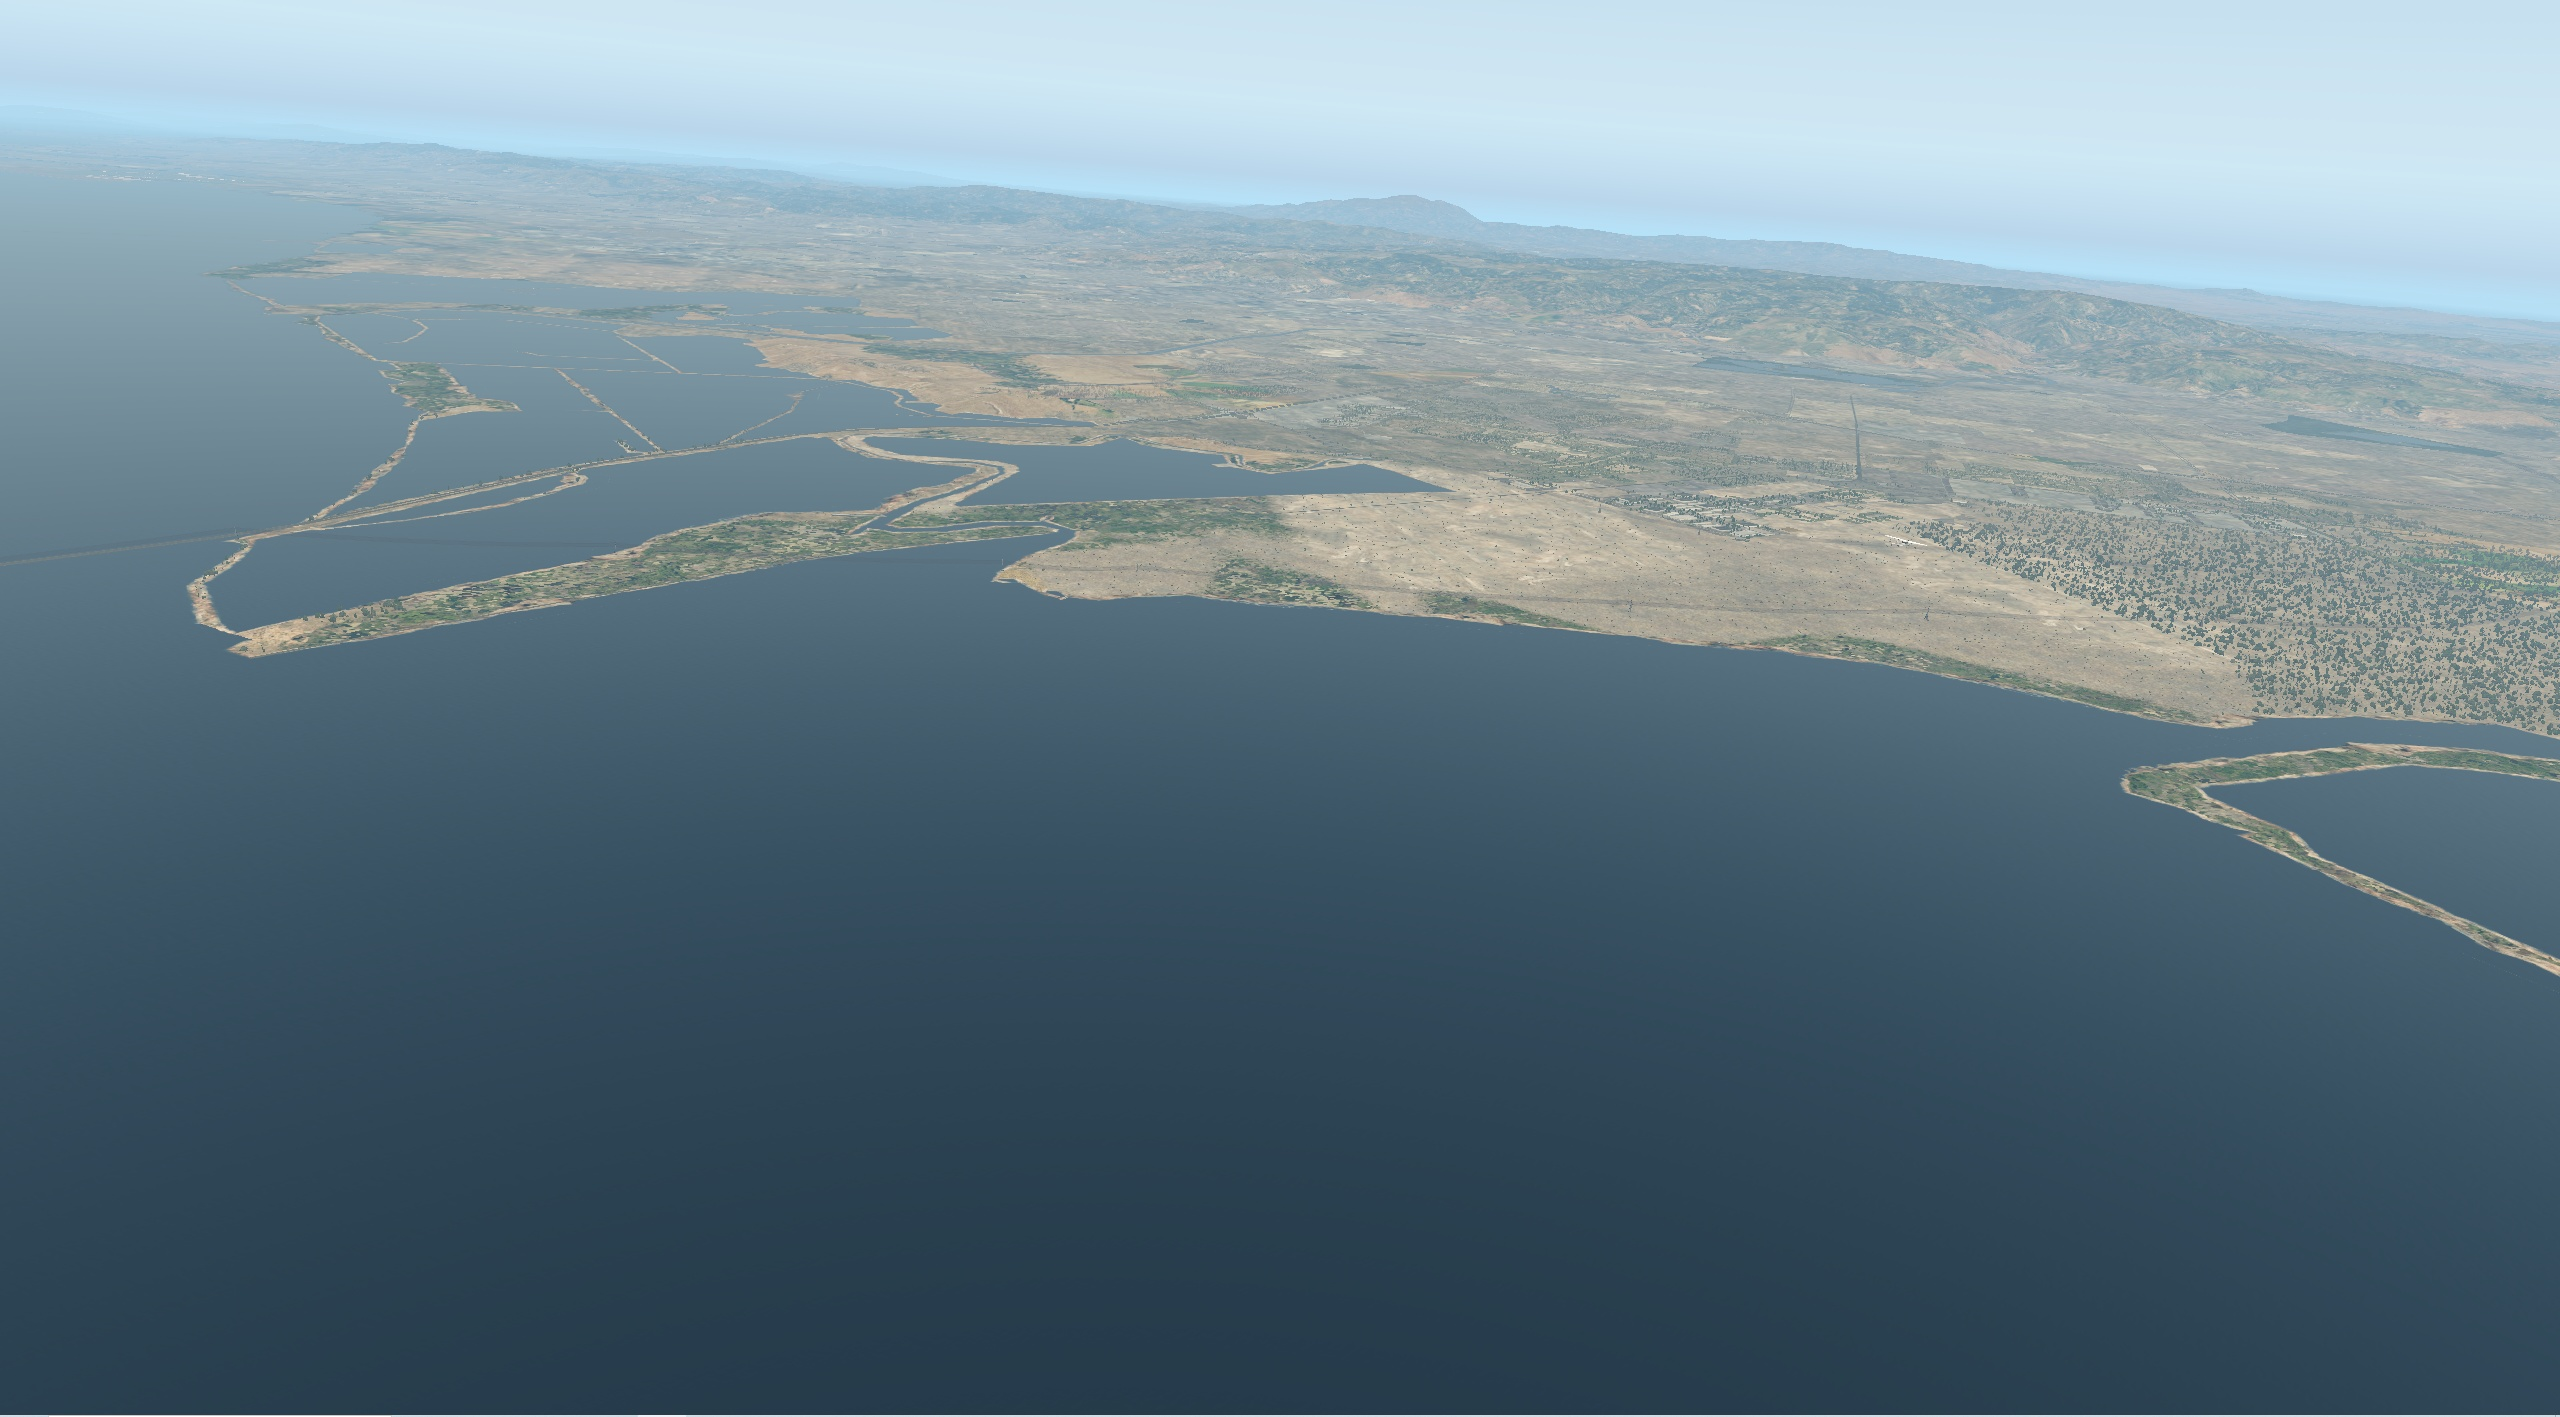aircraft: (1881, 534, 1930, 551)
